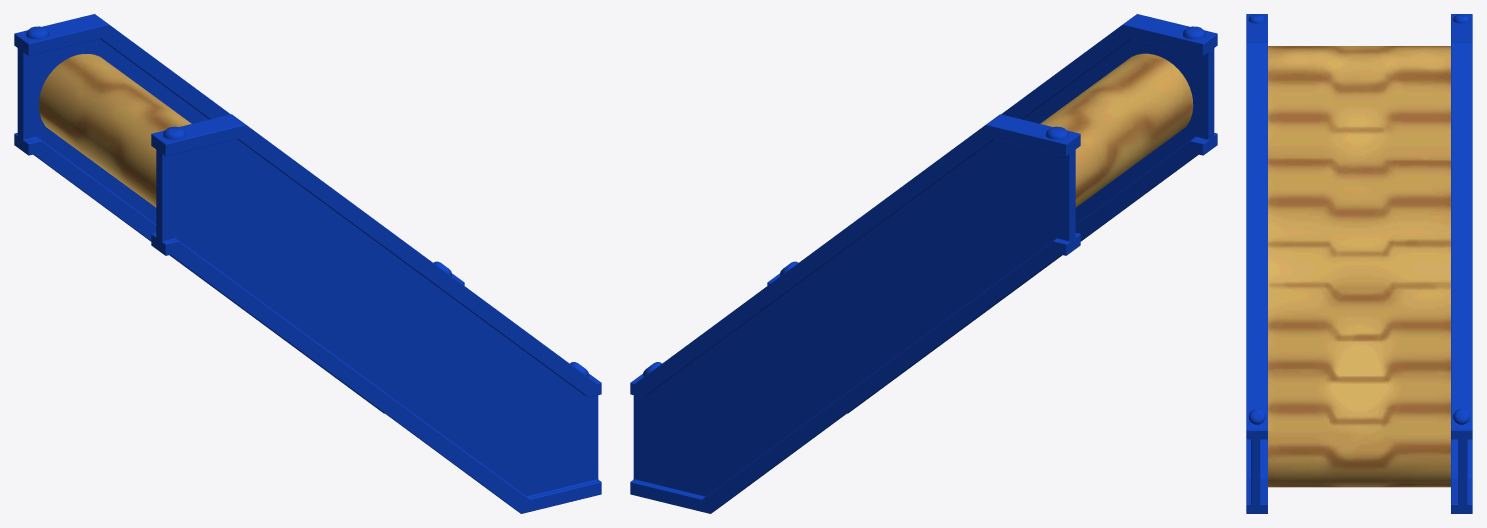
Rendered from Conveyorbelt_Up_full.fbx.
The picture shows the model from 3 angles, left to right: view 1: azimuth 30°, elevation 25°; view 2: azimuth 150°, elevation 25°; view 3: azimuth 270°, elevation 25°; orthographic projection. The views are drawn at different scales.
Visible parts, largest first — view 1: Conveyorbelt04_low; view 2: Conveyorbelt04_low; view 3: Conveyorbelt04_low.
Boxes of the visible parts, x1,y1,x2,y2 form: Conveyorbelt04_low: (14,14,601,513); Conveyorbelt04_low: (630,14,1217,513); Conveyorbelt04_low: (1246,14,1472,513).
Bounding box in the file's own units: 199 × 201 × 120.
